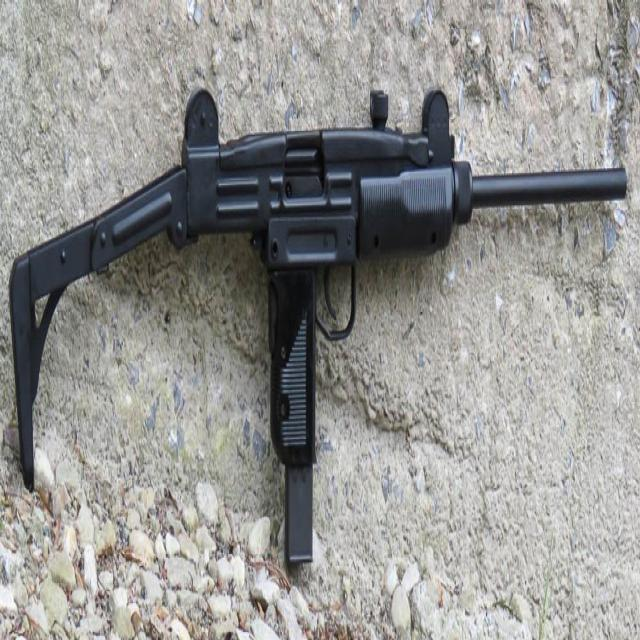SMG: (8, 91, 628, 574)
